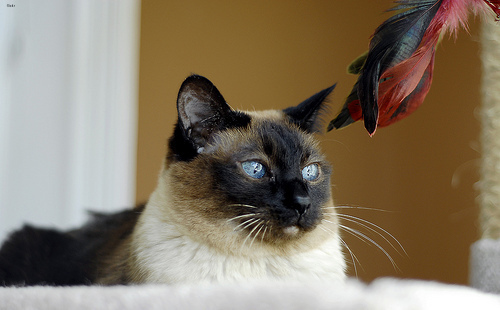cat: (175, 74, 337, 242)
